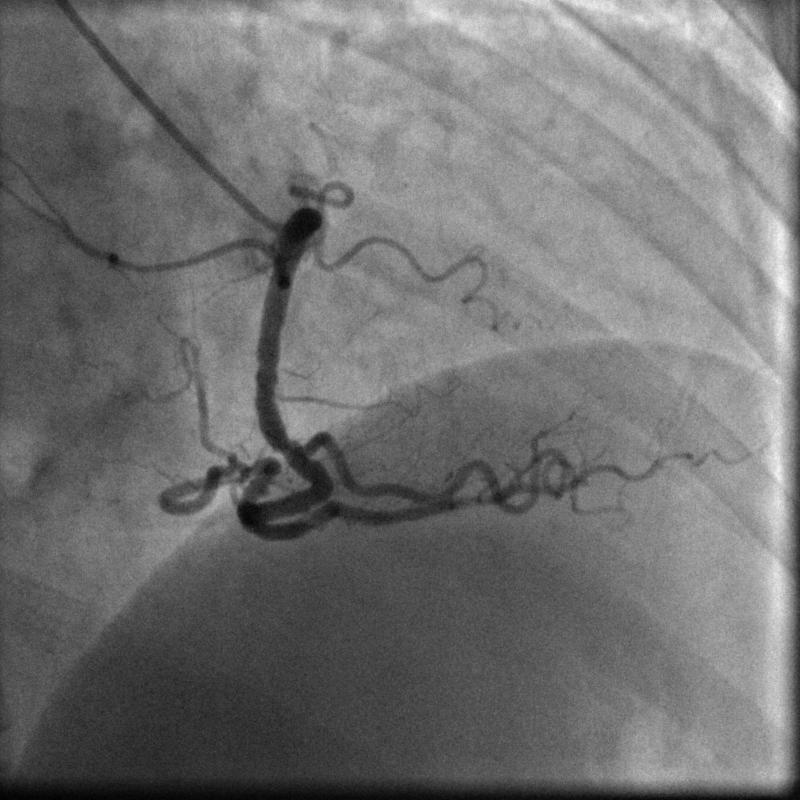Stenosis: (264, 433, 316, 466)
